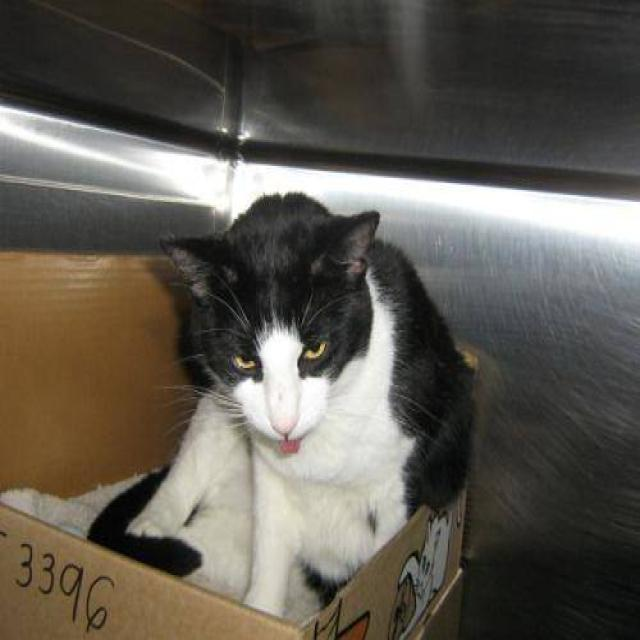cat: (86, 188, 475, 625)
